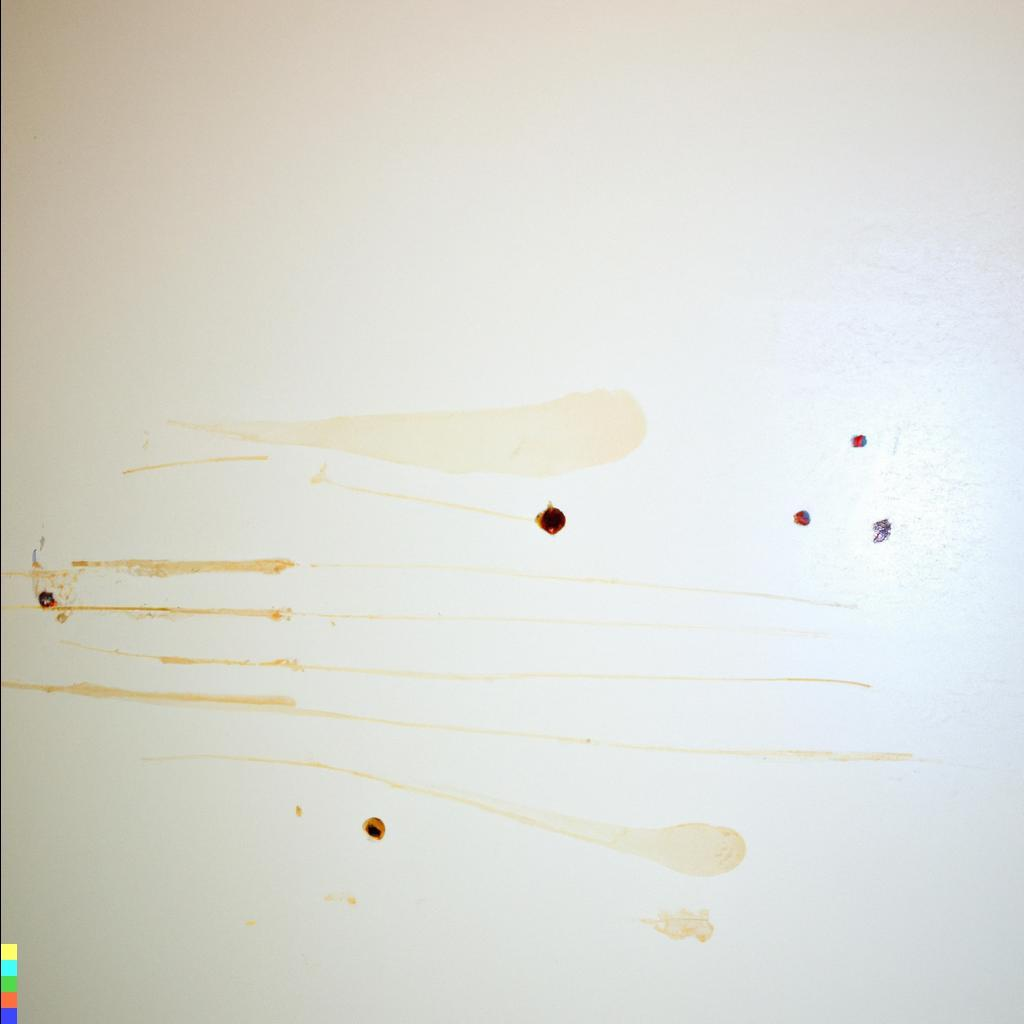Fire: (534, 502, 565, 535)
